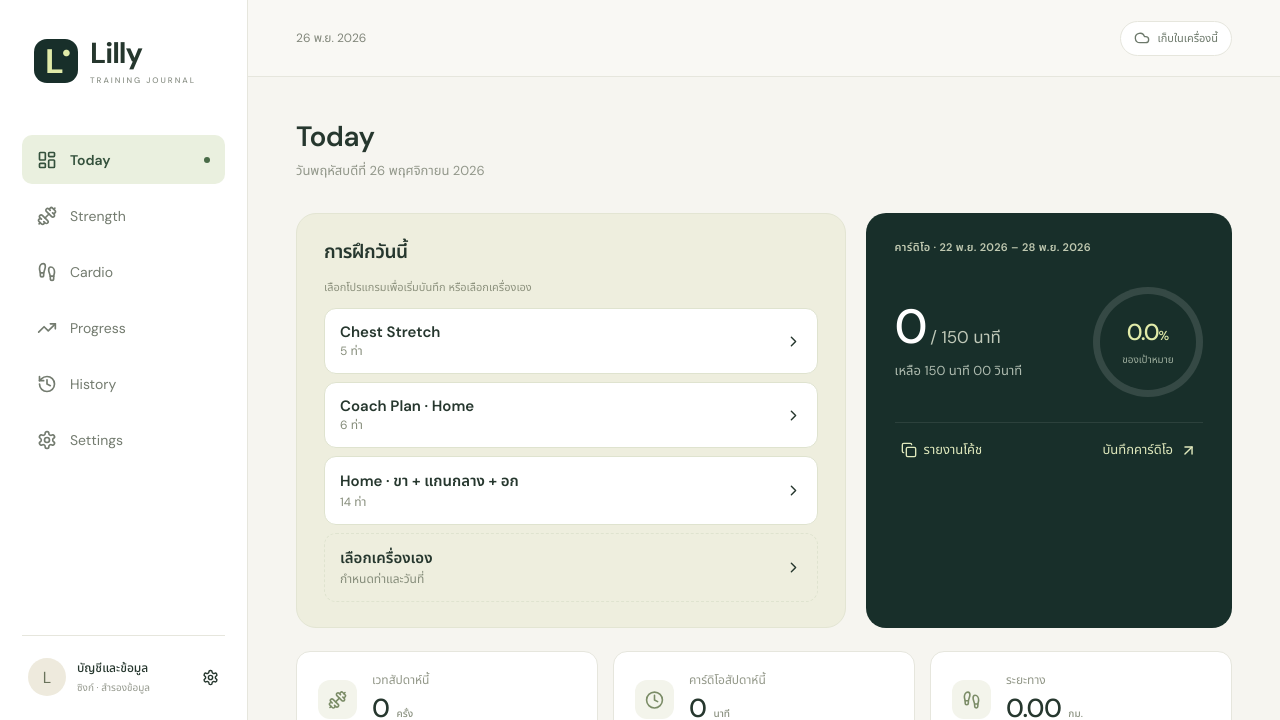
Test: selects the three chest stretches, Cobra and Child's Pose from the Chest Stretch program
Click the button "Chest Stretch 5 ท่า". click: (390, 332)
box: [324,308,818,374]
(page scrolled)
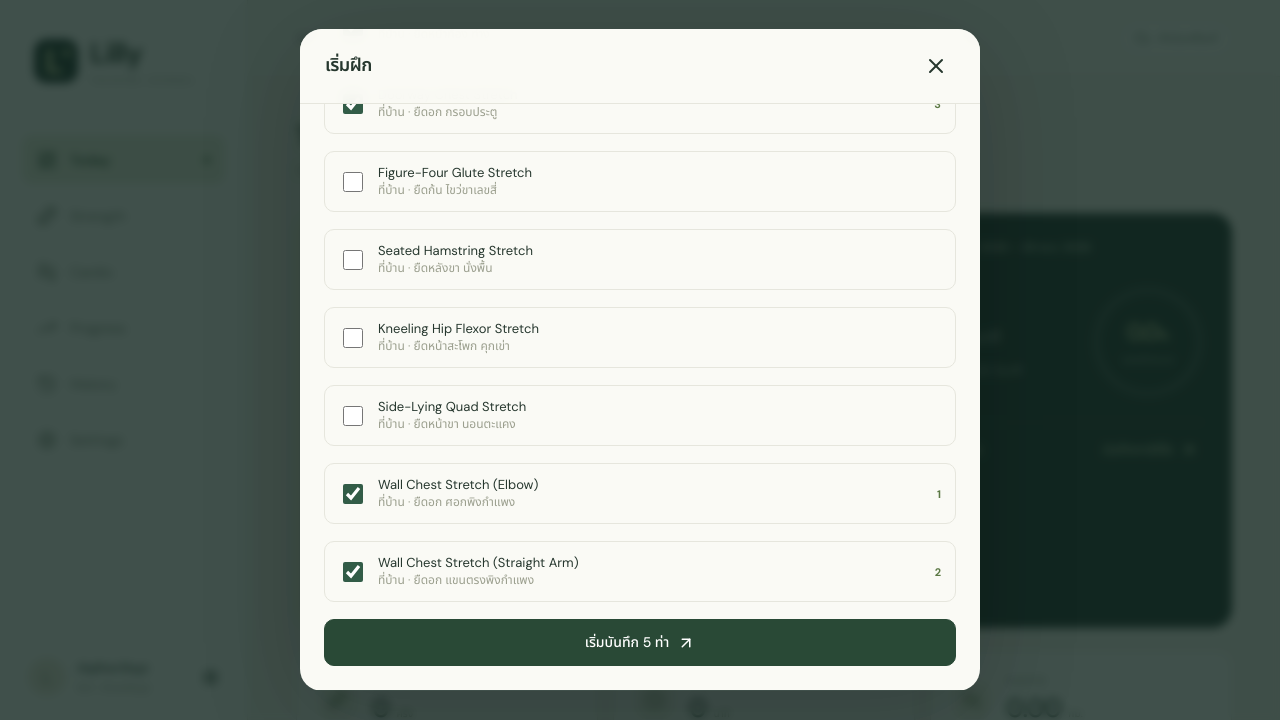
Result: the button "เริ่มบันทึก 5 ท่า" is shown at [324,619,956,666]
